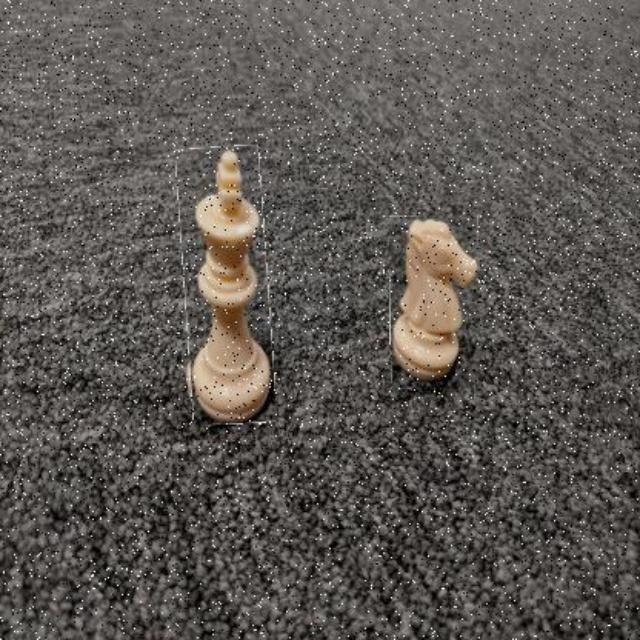white-king: (180, 147, 272, 425)
white-knight: (390, 215, 480, 384)
